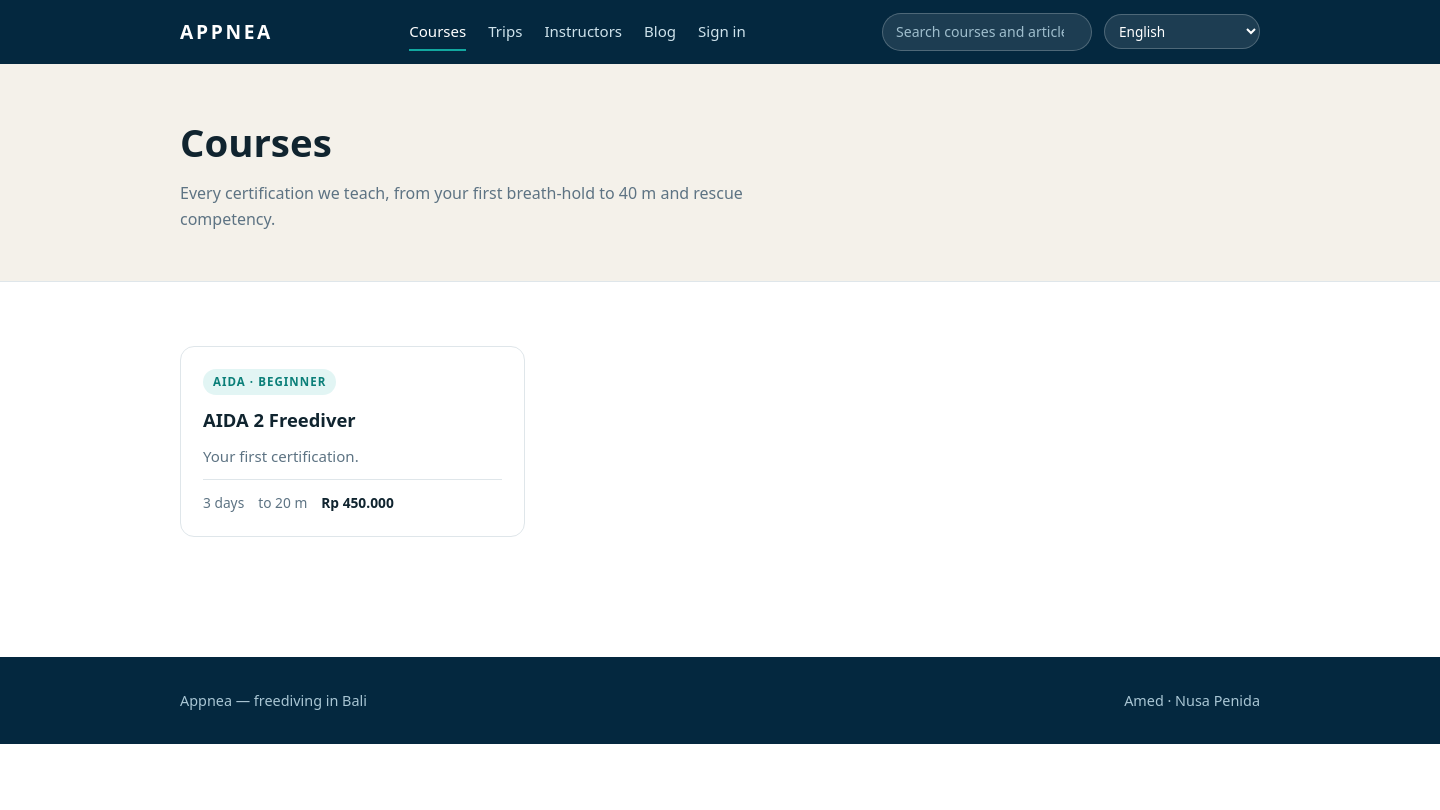
client-side navigation › never hands a page the previous route data
Expected: the heading "AIDA 2 Freediver" is shown, x1=203 y1=407 x2=356 y2=432
Click the link "Blog": (660, 31) x1=644 y1=21 x2=676 y2=41
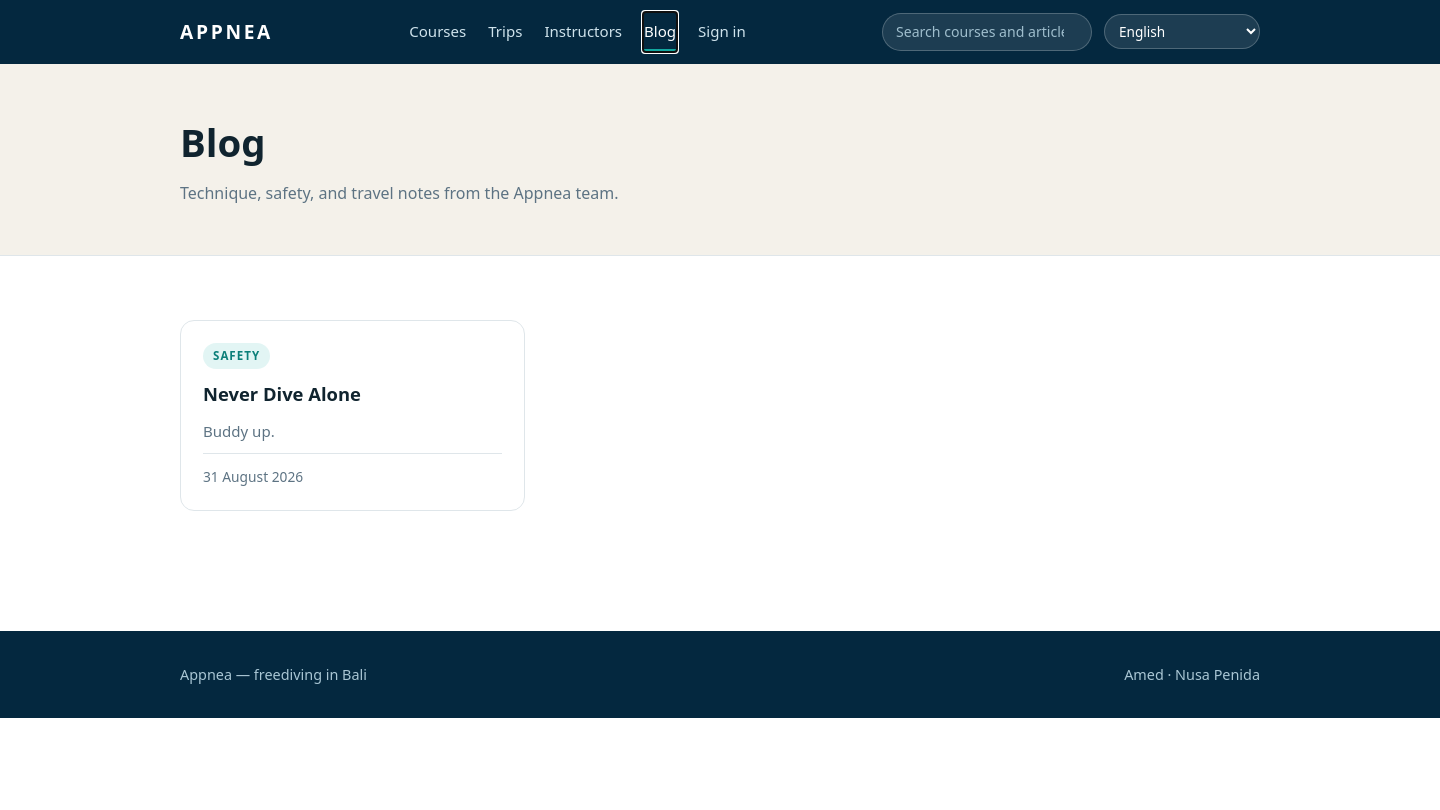
Expected: the link "AIDA 2 Freediver" is gone
Expected: the heading "Never Dive Alone" is shown, x1=203 y1=382 x2=361 y2=406
